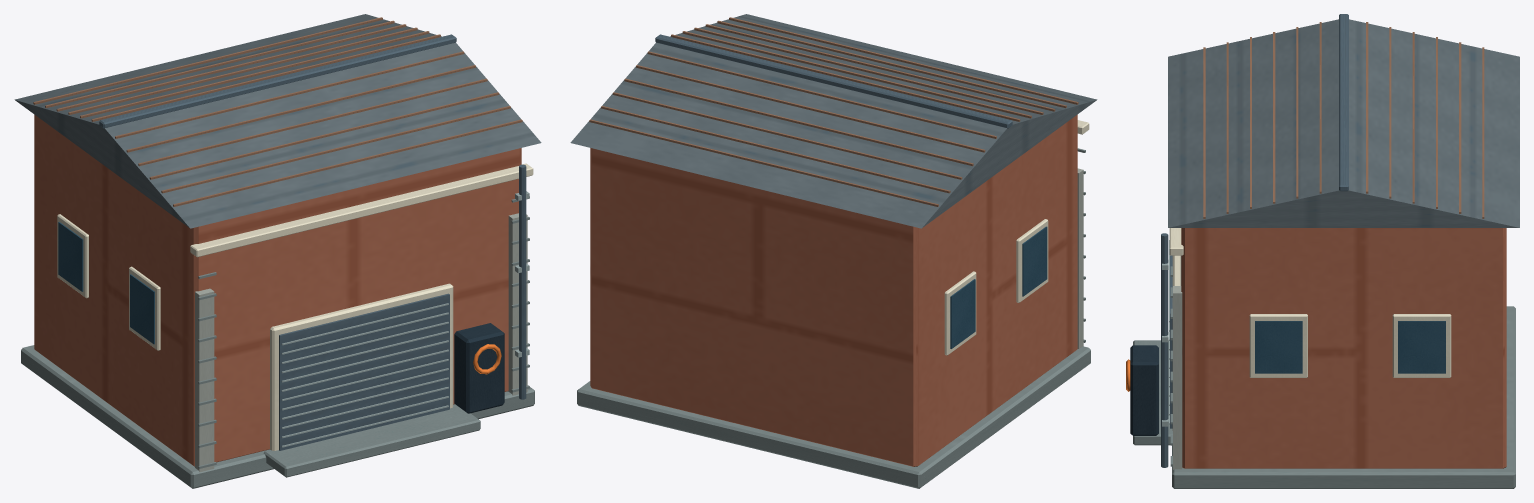
File: workshop-intact.glb
3 renders of one model, left to right at view 1: azimuth 30°, elevation 25°; view 2: azimuth 150°, elevation 25°; view 3: azimuth 270°, elevation 25°, orthographic.
Parts seen in each view (by area): view 1: workshop-intact; view 2: workshop-intact; view 3: workshop-intact.
Boxes of the visible parts, x1,y1,x2,y2 form: workshop-intact: (14,14,541,488); workshop-intact: (570,14,1097,488); workshop-intact: (1126,14,1519,488).
Size of the model in its own units: 6.14 by 5.09 by 5.93.
2 materials, 2 textured.
